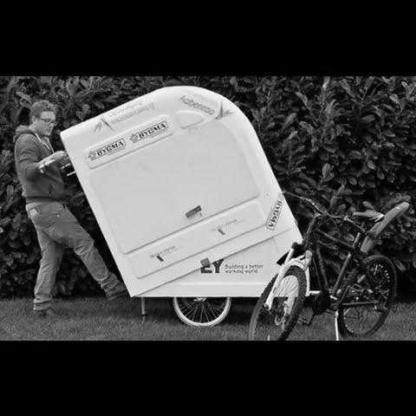Bicycle: (254, 185, 416, 339)
